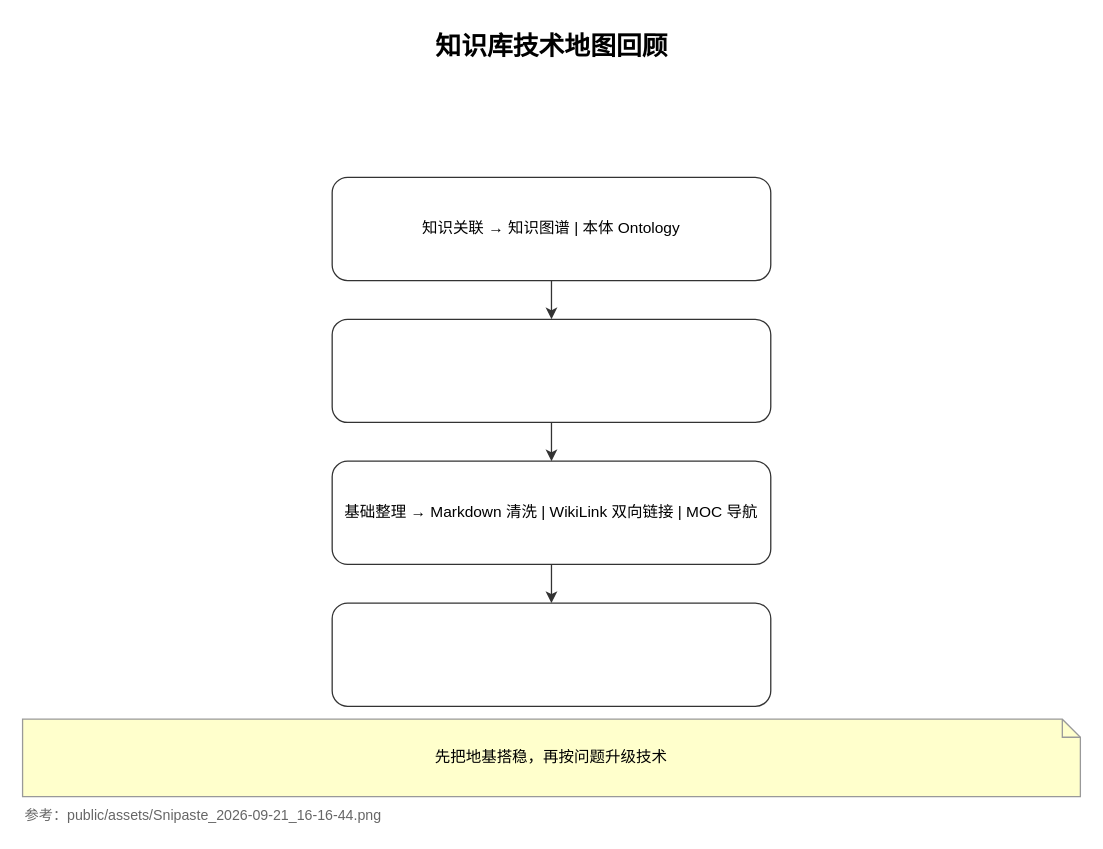
Some shapes in this 1103 by 849 pixel diagram are drawn without their labels. The centre of each missing label's shape, as x and y in pixels:
地基 → 目录分类 | 标签 | 元数据: point (551, 654)
检索 → Grep 关键词检索 | RAG 向量检索 | 混合检索: point (551, 370)
